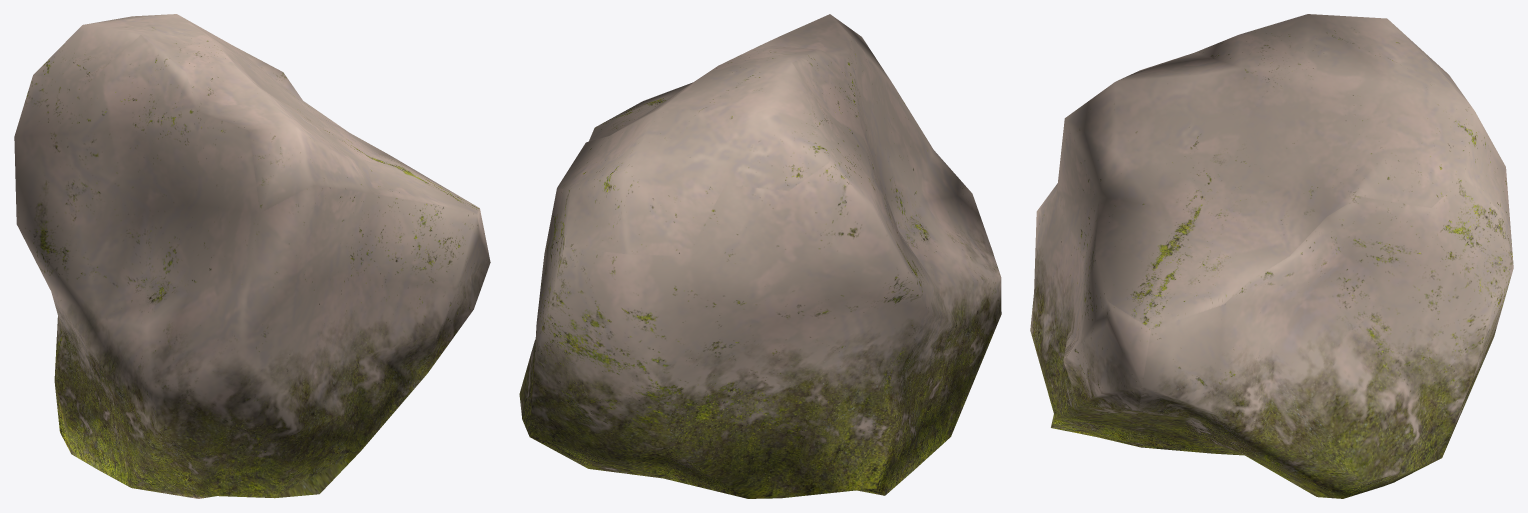
Rendered from ROK0110043.fbx.
3 renders of one model, left to right at view 1: azimuth 30°, elevation 25°; view 2: azimuth 150°, elevation 25°; view 3: azimuth 270°, elevation 25°, orthographic. The views are drawn at different scales.
Parts seen in each view (by area): view 1: smROK0110043; view 2: smROK0110043; view 3: smROK0110043.
Boxes of the visible parts, x1,y1,x2,y2 form: smROK0110043: (14, 14, 490, 498); smROK0110043: (519, 14, 1001, 498); smROK0110043: (1030, 14, 1513, 498).
Size of the model in its own units: 184 by 180 by 196.
Materials: 1 (1 with a texture image).
